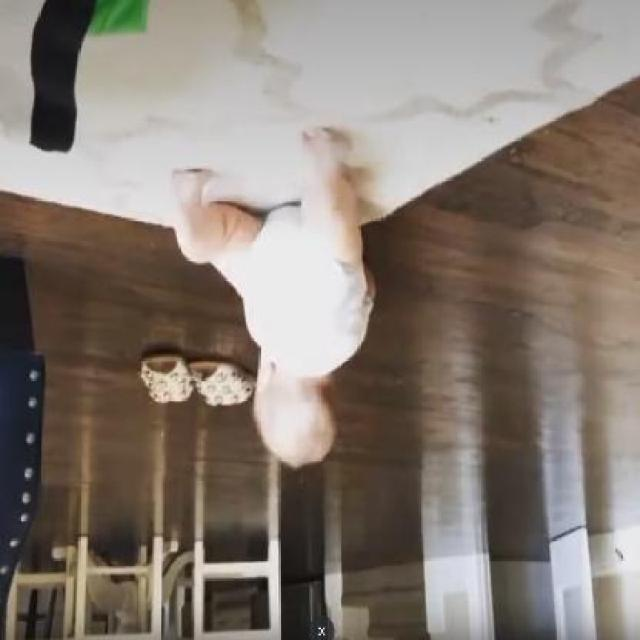non-dog: (166, 122, 379, 472)
